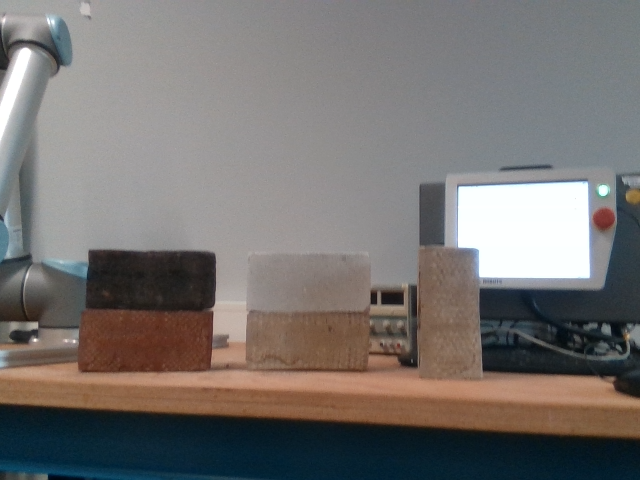brick: (419, 247, 480, 379), (81, 312, 212, 371), (89, 251, 212, 310), (250, 254, 368, 311), (250, 316, 368, 365)
